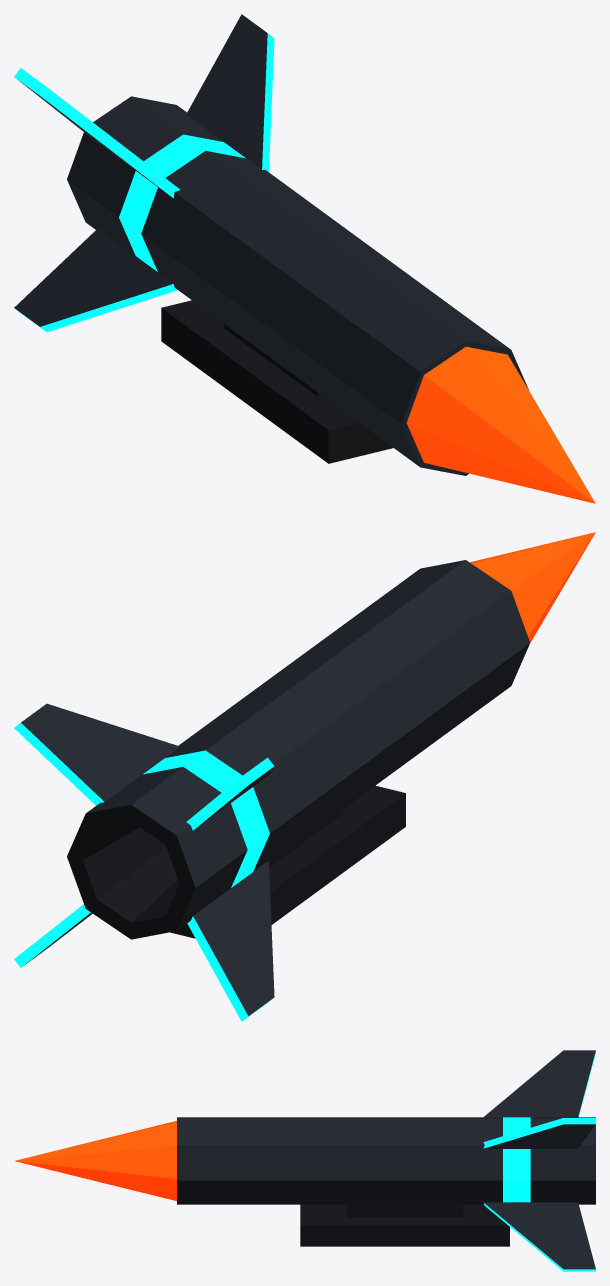
Rendered from cohete.glb.
3 renders of one model, top to bottom at view 1: azimuth 30°, elevation 25°; view 2: azimuth 150°, elevation 25°; view 3: azimuth 270°, elevation 25°, orthographic. The views are drawn at different scales.
Visible parts, largest first — view 1: Cohete, Soporte_Techo; view 2: Cohete, Soporte_Techo; view 3: Cohete, Soporte_Techo.
Boxes of the visible parts, x1,y1,x2,y2 form: Cohete: (14, 14, 595, 503); Soporte_Techo: (161, 300, 393, 463); Cohete: (14, 532, 595, 1021); Soporte_Techo: (170, 785, 405, 938); Cohete: (15, 1050, 595, 1271); Soporte_Techo: (300, 1204, 509, 1246).
Bounding box in the file's own units: 0.3642 × 0.3642 × 1.25.
